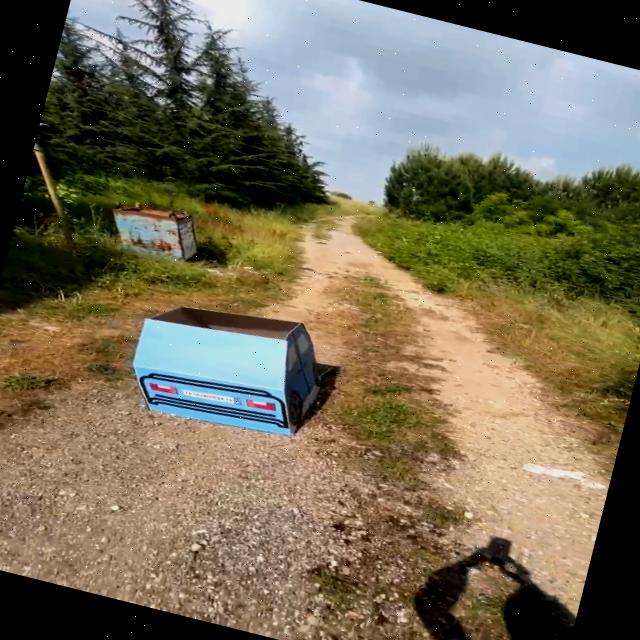blue_car: (102, 268, 360, 466)
